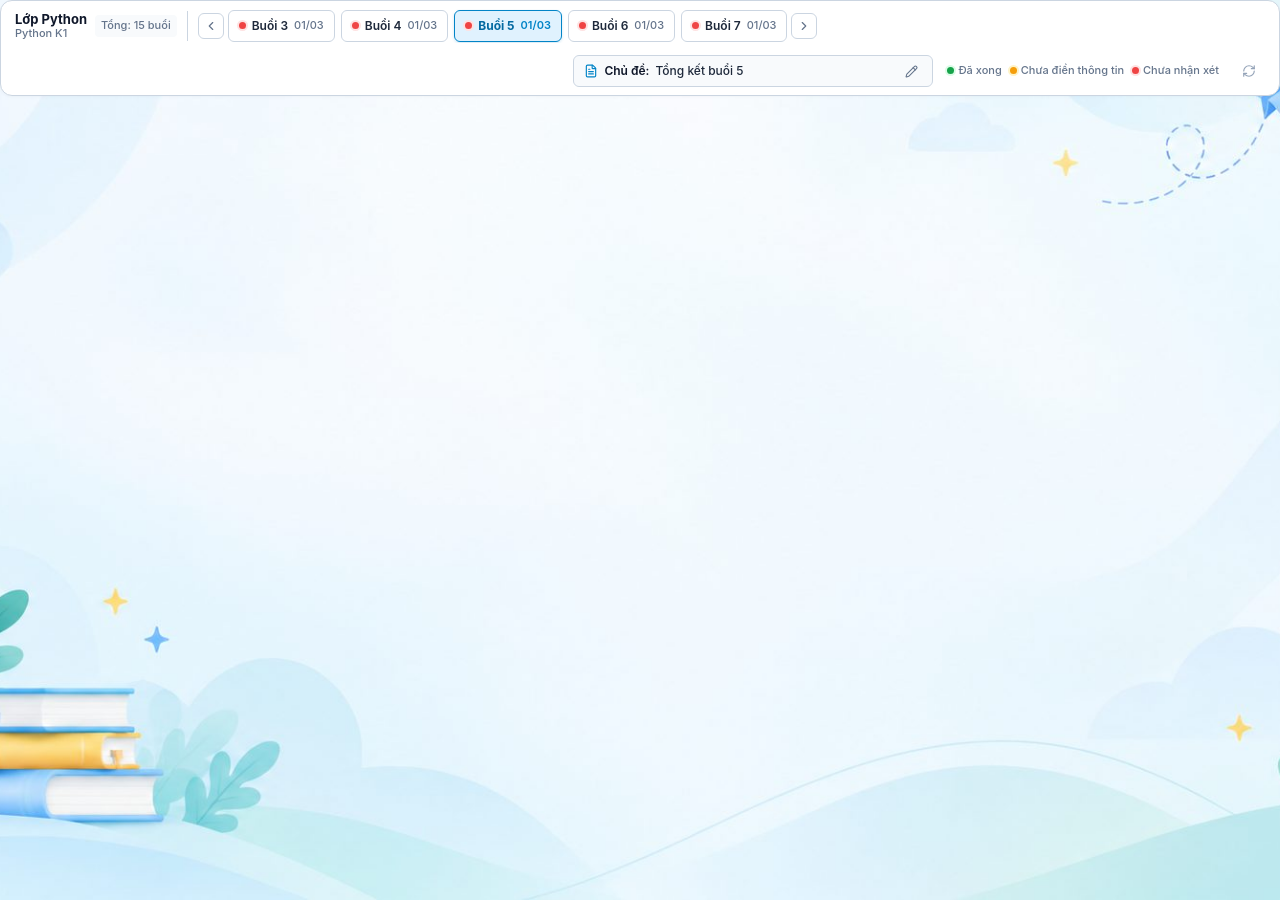
Test: SessionSelector topic editing and saving › successfully saves topic at session 5 (Checkpoint mode)
The image size is (1280, 900).
Expected: the text "Tổng kết buổi 5" is shown, [655,61,744,81]
Click the button named "Chỉnh sửa chủ đề". click: (911, 71)
box: [900,60,922,82]
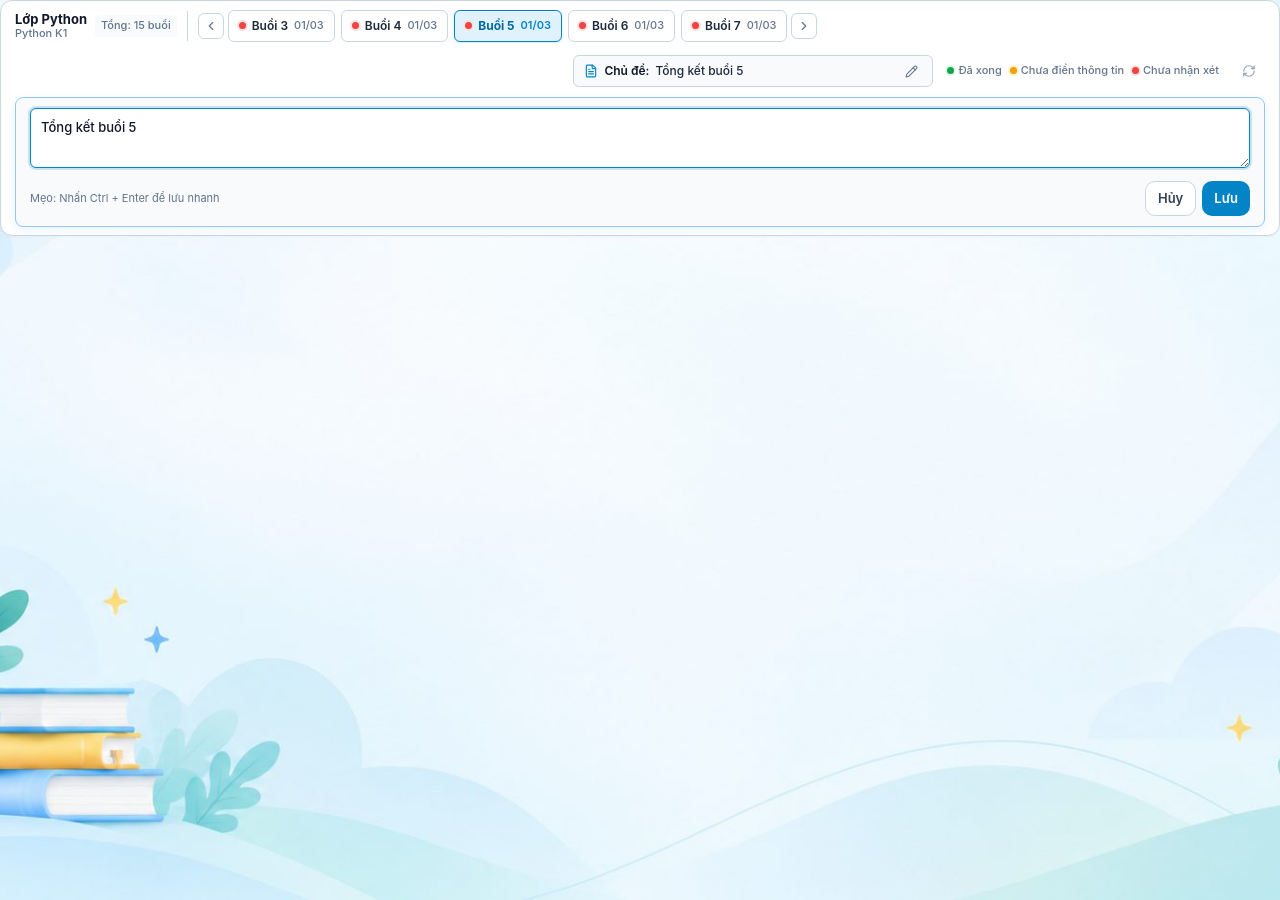
Replace the text in the text box with placeholder "Nhập chủ đề hoặc tổng kết buổi học..." with "Ôn tập và kiểm tra Checkpoint 1". click: (640, 138)
box: [30,108,1250,168]
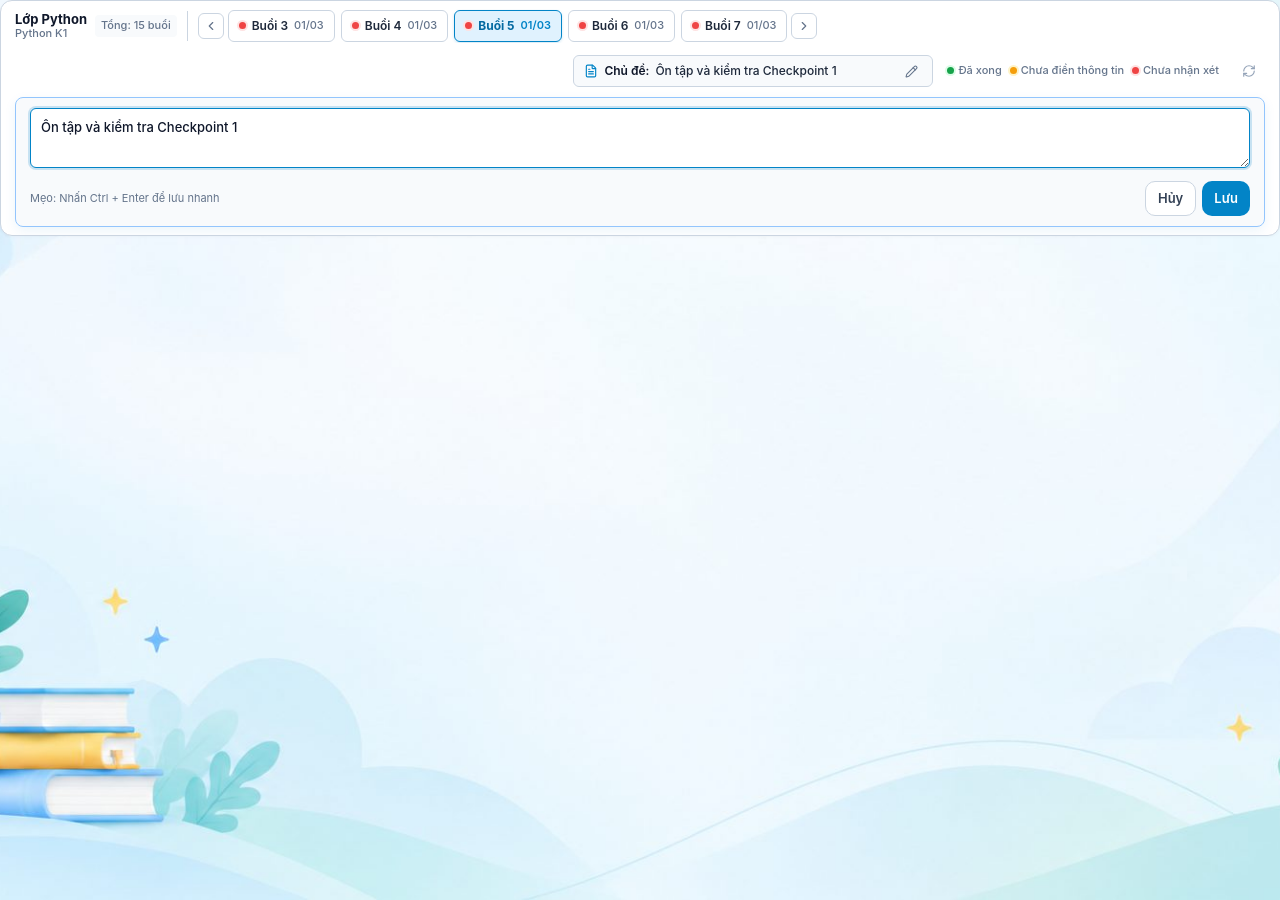
Click the button "Lưu". click: (1226, 199)
box: [1202,181,1250,216]
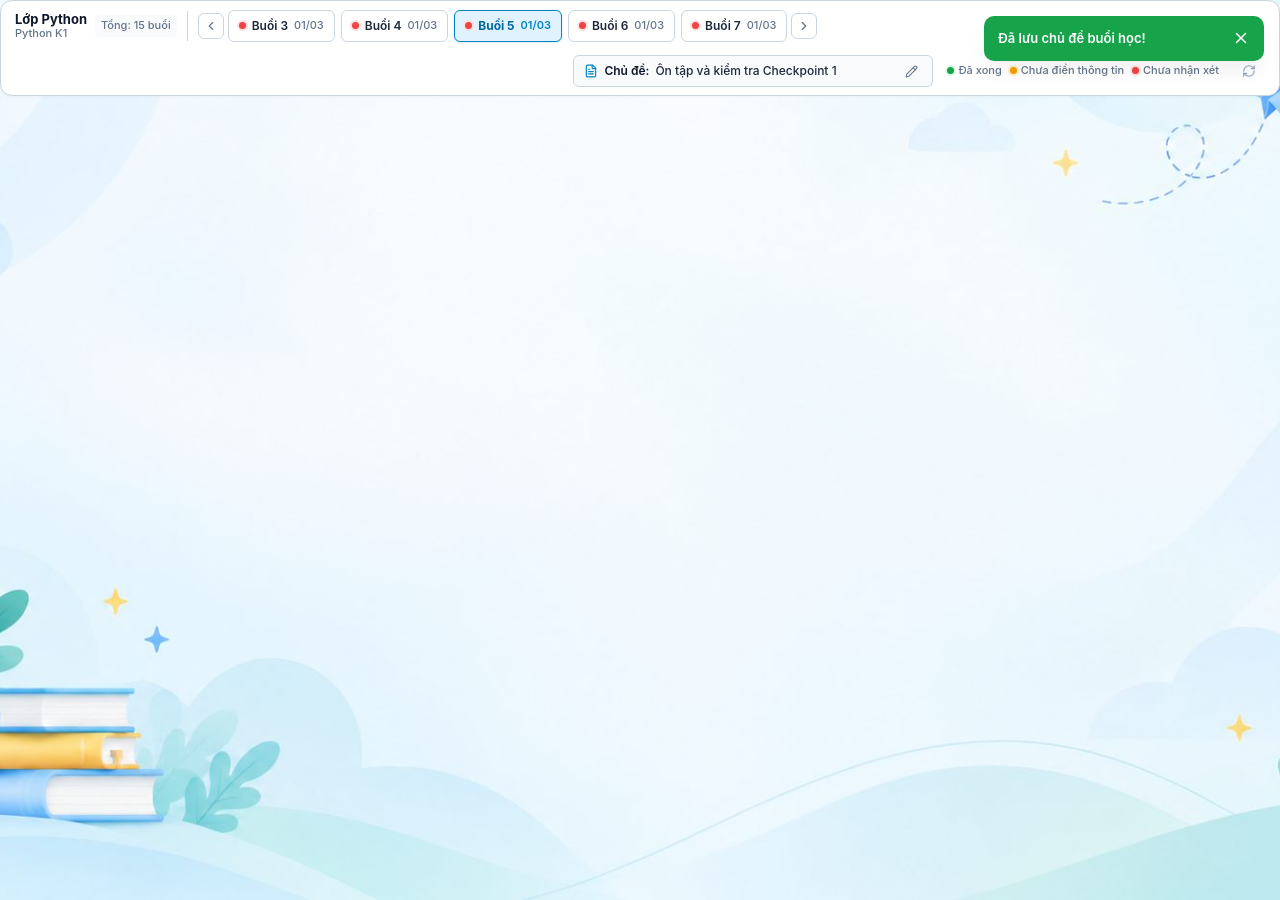
Now the text "Tổng kết buổi 5" reads "Ôn tập và kiểm tra Checkpoint 1", box [655,63,837,78]
Now the text "Đã lưu chủ đề buổi học!" is shown, box [998,28,1146,49]
